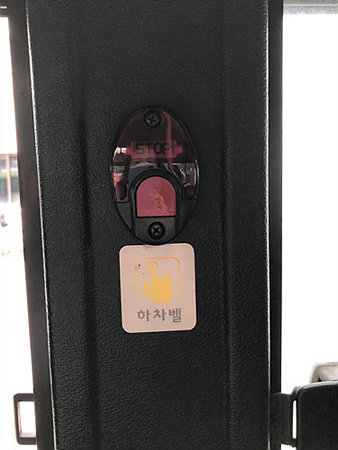bell: (108, 105, 202, 244)
